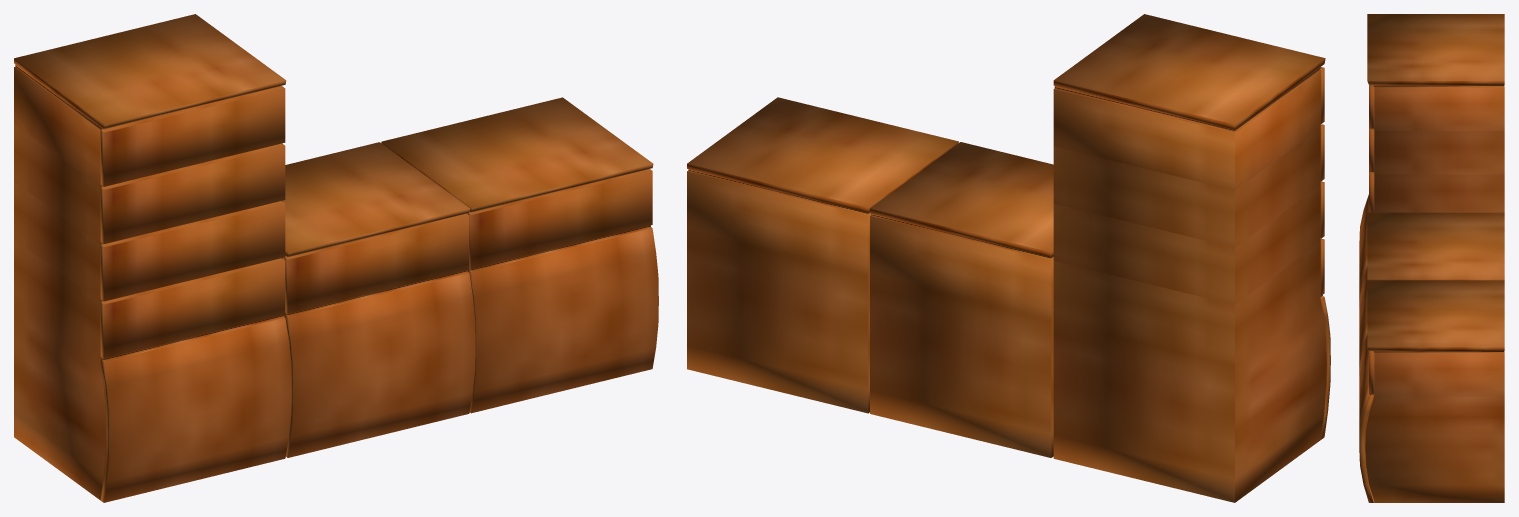
Rendered from box_room.glb.
3 views of the same model, side by side, from view 1: azimuth 30°, elevation 25°; view 2: azimuth 150°, elevation 25°; view 3: azimuth 270°, elevation 25° (orthographic). The views are drawn at different scales.
Parts seen in each view (by area): view 1: highbox_Cube.001, box2_Cube.005, box1_Cube.004; view 2: highbox_Cube.001, box2_Cube.005, box1_Cube.004; view 3: box2_Cube.005, highbox_Cube.001, box1_Cube.004.
Part boxes in pixels (x1=…): highbox_Cube.001: x1=14, y1=14, x2=291, y2=502; box2_Cube.005: x1=381, y1=97, x2=658, y2=413; box1_Cube.004: x1=282, y1=142, x2=475, y2=457; highbox_Cube.001: x1=1053, y1=14, x2=1330, y2=502; box2_Cube.005: x1=687, y1=97, x2=958, y2=413; box1_Cube.004: x1=870, y1=142, x2=1053, y2=457; box2_Cube.005: x1=1359, y1=280, x2=1504, y2=502; highbox_Cube.001: x1=1359, y1=14, x2=1504, y2=307; box1_Cube.004: x1=1359, y1=212, x2=1504, y2=375.
Size of the model in its own units: 1.58 by 1.04 by 0.4788.
1 material, 1 textured.
